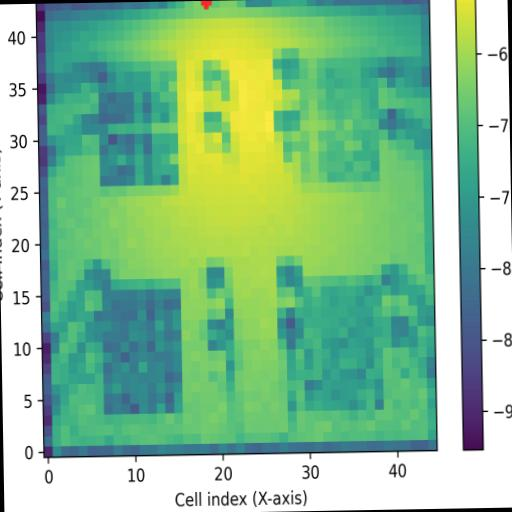Concrete: (292, 58, 382, 184)
Glass: (90, 62, 179, 186)
Metal: (302, 275, 383, 410)
Wood: (102, 278, 183, 415)
